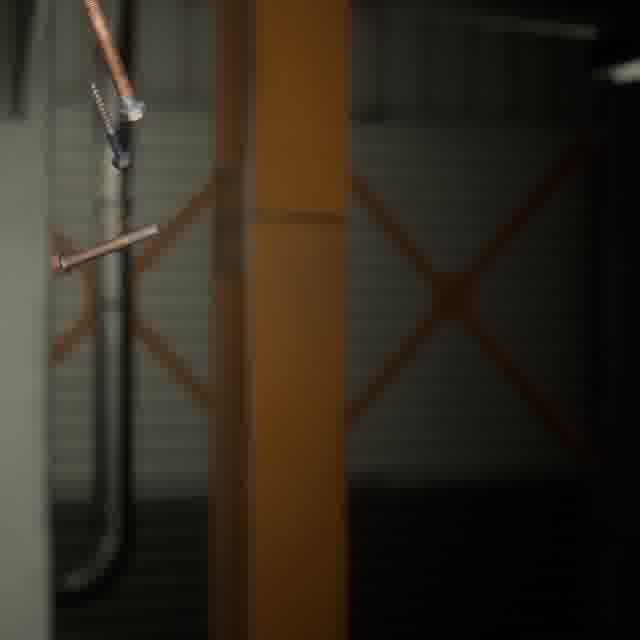bolt: (76, 0, 151, 126), (46, 217, 165, 282), (84, 76, 138, 173)
